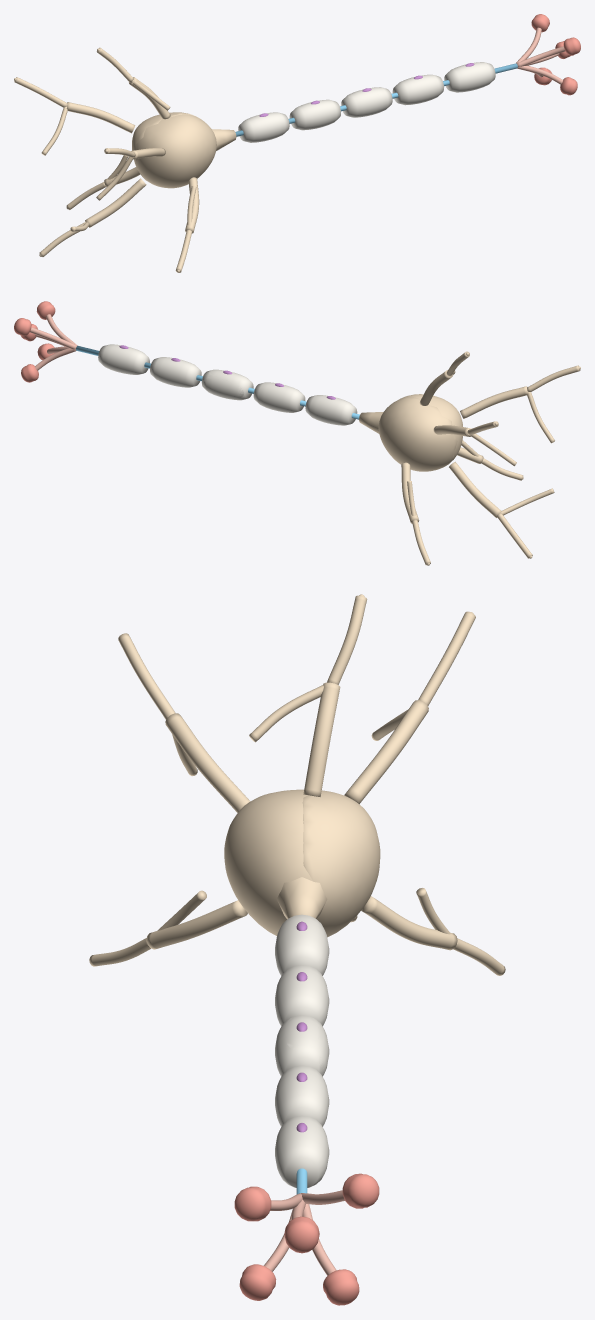
Rendered from neuron.glb.
The picture shows the model from 3 angles, top to bottom: view 1: azimuth 30°, elevation 25°; view 2: azimuth 150°, elevation 25°; view 3: azimuth 270°, elevation 25°; orthographic projection. The views are drawn at different scales.
Visible parts, largest first — view 1: Full_Soma, Full_Myelin_4, Full_Myelin_0, Full_Myelin_1, Full_Myelin_2, Full_Myelin_3, Full_Dendrite_Pri_0, Full_Dendrite_Pri_2, Sec_Soma, Full_Dendrite_Pri_4, Full_Dendrite_Sec1_0, Full_Axon_Hillock; view 2: Full_Soma, Full_Myelin_0, Full_Myelin_1, Full_Myelin_3, Full_Myelin_4, Full_Myelin_2, Sec_Soma, Full_Dendrite_Pri_1, Full_Dendrite_Pri_2, Full_Dendrite_Pri_3, Full_Dendrite_Pri_5, Full_Dendrite_Sec1_1 (+1 smaller); view 3: Full_Soma, Full_Myelin_4, Full_Myelin_1, Full_Myelin_0, Full_Myelin_3, Full_Myelin_2, Sec_Soma, Full_Dendrite_Pri_0, Full_Dendrite_Pri_1, Full_Dendrite_Pri_5, Full_Dendrite_Pri_4, Full_Dendrite_Pri_3 (+10 smaller).
Part boxes in pixels (x1,y1,x2,y2): Full_Soma: [132, 112, 216, 188]; Full_Myelin_4: [444, 62, 495, 92]; Full_Myelin_0: [238, 112, 289, 142]; Full_Myelin_1: [289, 99, 340, 130]; Full_Myelin_2: [341, 87, 392, 117]; Full_Myelin_3: [392, 74, 443, 105]; Full_Dendrite_Pri_0: [66, 102, 135, 133]; Full_Dendrite_Pri_2: [85, 178, 146, 227]; Sec_Soma: [132, 112, 207, 180]; Full_Dendrite_Pri_4: [185, 177, 199, 233]; Full_Dendrite_Sec1_0: [14, 77, 67, 107]; Full_Axon_Hillock: [212, 129, 236, 150]; Full_Soma: [378, 394, 462, 471]; Full_Myelin_0: [305, 395, 357, 425]; Full_Myelin_1: [253, 382, 305, 412]; Full_Myelin_3: [150, 357, 201, 387]; Full_Myelin_4: [98, 344, 149, 374]; Full_Myelin_2: [201, 369, 253, 400]; Sec_Soma: [378, 397, 457, 469]; Full_Dendrite_Pri_1: [460, 386, 528, 418]; Full_Dendrite_Pri_2: [449, 461, 501, 517]; Full_Dendrite_Pri_3: [401, 462, 419, 523]; Full_Dendrite_Pri_5: [419, 370, 452, 405]; Full_Dendrite_Sec1_1: [527, 365, 580, 391]; Full_Soma: [224, 789, 380, 936]; Full_Myelin_4: [275, 1115, 329, 1187]; Full_Myelin_1: [275, 965, 329, 1026]; Full_Myelin_0: [275, 914, 329, 975]; Full_Myelin_3: [275, 1065, 329, 1126]; Full_Myelin_2: [275, 1015, 329, 1076]; Sec_Soma: [302, 790, 336, 936]; Full_Dendrite_Pri_0: [344, 700, 428, 804]; Full_Dendrite_Pri_1: [165, 713, 250, 812]; Full_Dendrite_Pri_5: [303, 682, 340, 796]; Full_Dendrite_Pri_4: [146, 900, 247, 949]; Full_Dendrite_Pri_3: [361, 896, 457, 950].
Bounding box in the file's own units: 0.2421 × 0.0858 × 0.084.
